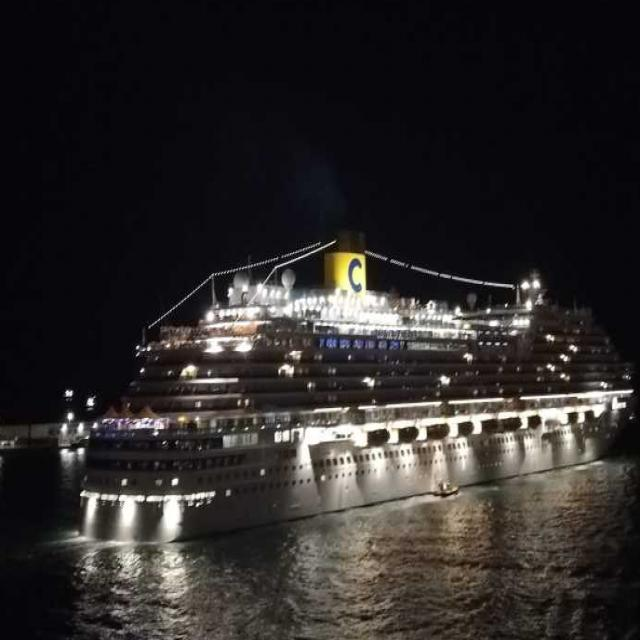cruises: (70, 219, 640, 548)
